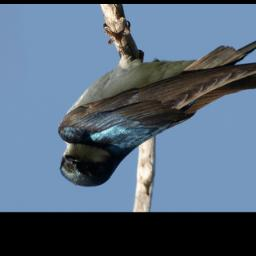Swallow: (57, 18, 256, 187)
